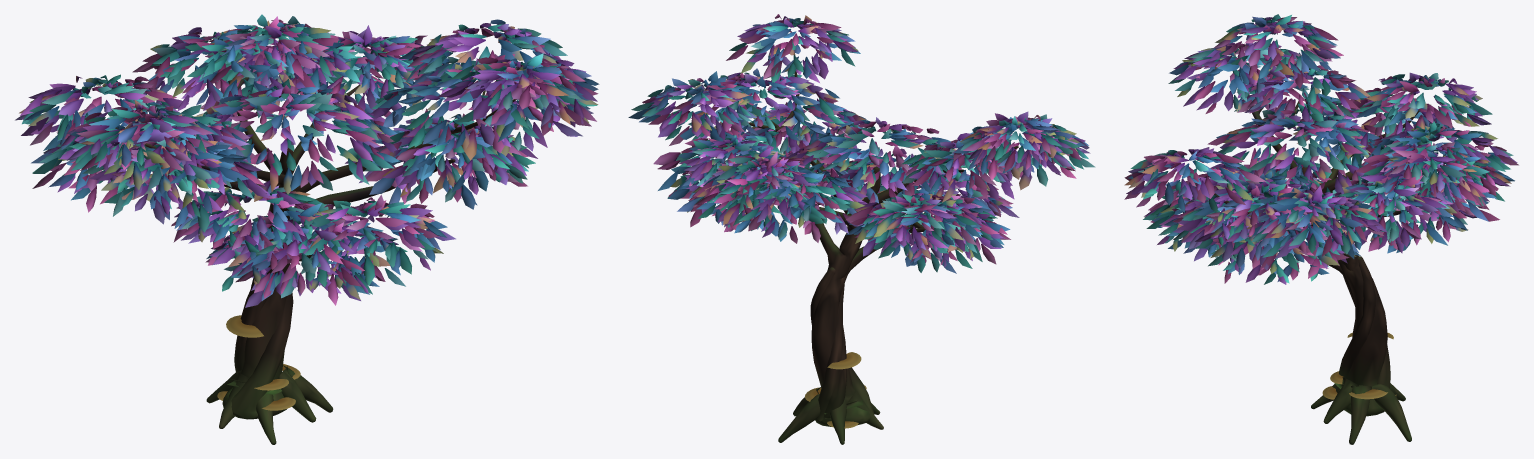
Rendered from tree_giant_b.glb.
The picture shows the model from 3 angles, left to right: view 1: azimuth 30°, elevation 25°; view 2: azimuth 150°, elevation 25°; view 3: azimuth 270°, elevation 25°; orthographic projection. The views are drawn at different scales.
Visible parts, largest first — view 1: tree_giant_b; view 2: tree_giant_b; view 3: tree_giant_b.
Part boxes in pixels (x1,y1,x2,y2): tree_giant_b: [15, 14, 599, 444]; tree_giant_b: [628, 14, 1095, 444]; tree_giant_b: [1124, 14, 1518, 444].
Bounding box in the file's own units: 12.55 × 9.22 × 9.97.
